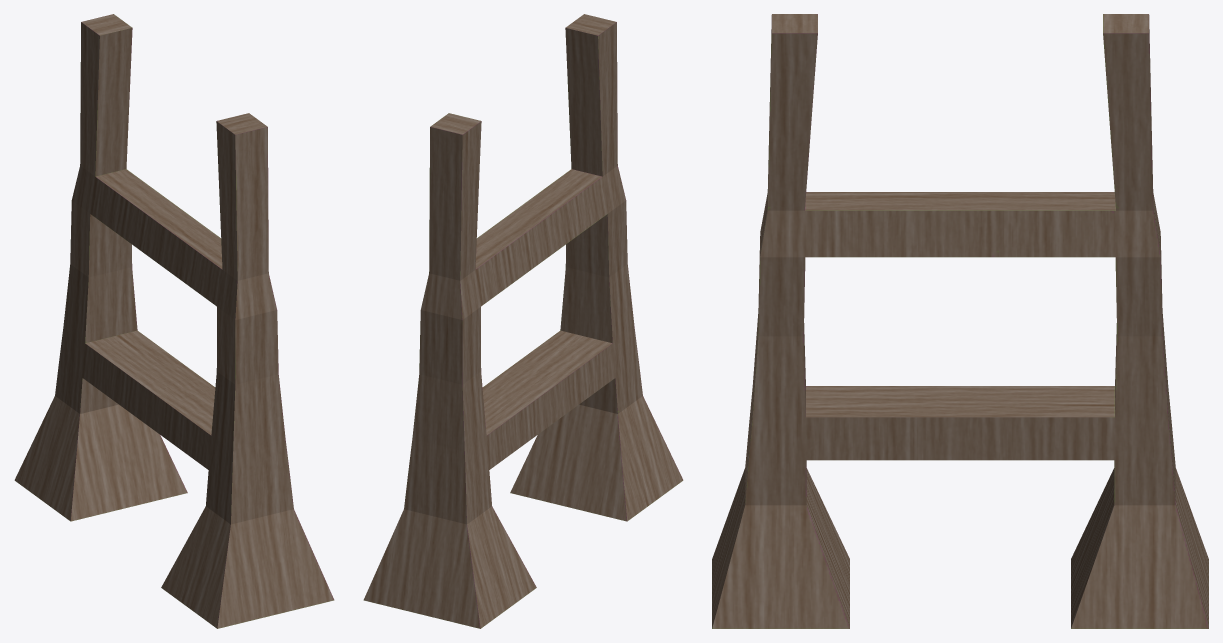
File: shelf.glb
3 views of the same model, side by side, from view 1: azimuth 30°, elevation 25°; view 2: azimuth 150°, elevation 25°; view 3: azimuth 270°, elevation 25° (orthographic). The views are drawn at different scales.
Visible parts, largest first — view 1: Shelf; view 2: Shelf; view 3: Shelf.
Part boxes in pixels (x1,y1,x2,y2): Shelf: (14, 14, 334, 628); Shelf: (363, 14, 683, 628); Shelf: (712, 14, 1208, 628).
Bounding box in the file's own units: 2 × 7.6 × 6.
Materials: 1 (1 with a texture image).
